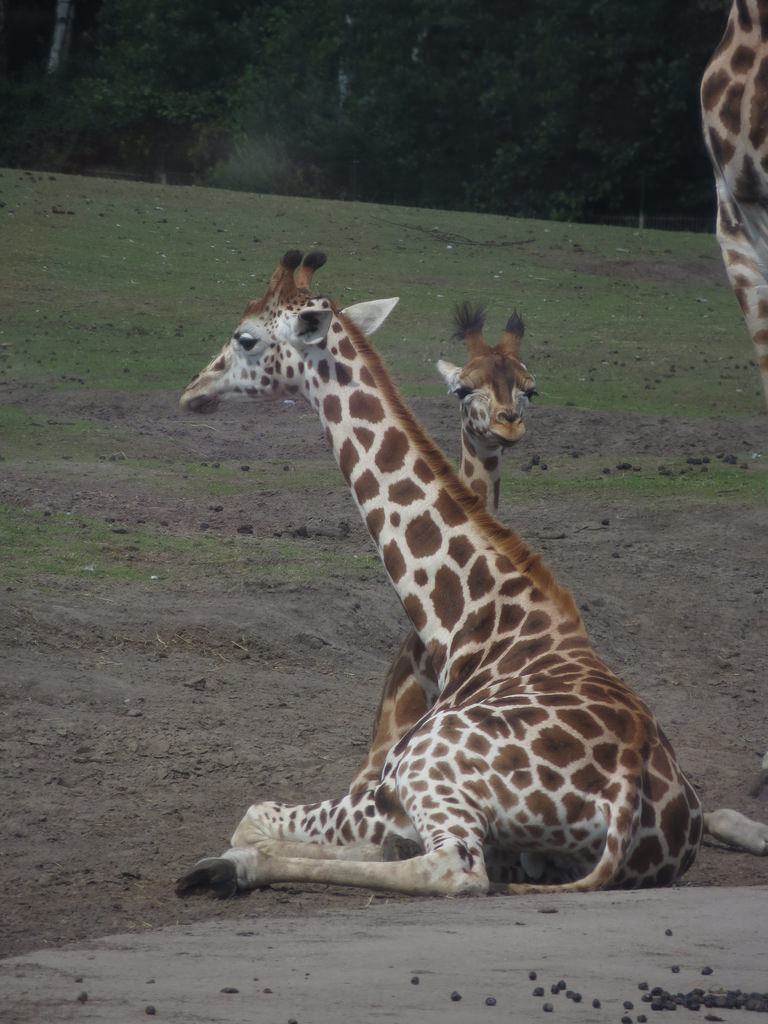giraffe: (144, 245, 697, 890), (379, 297, 576, 590)
